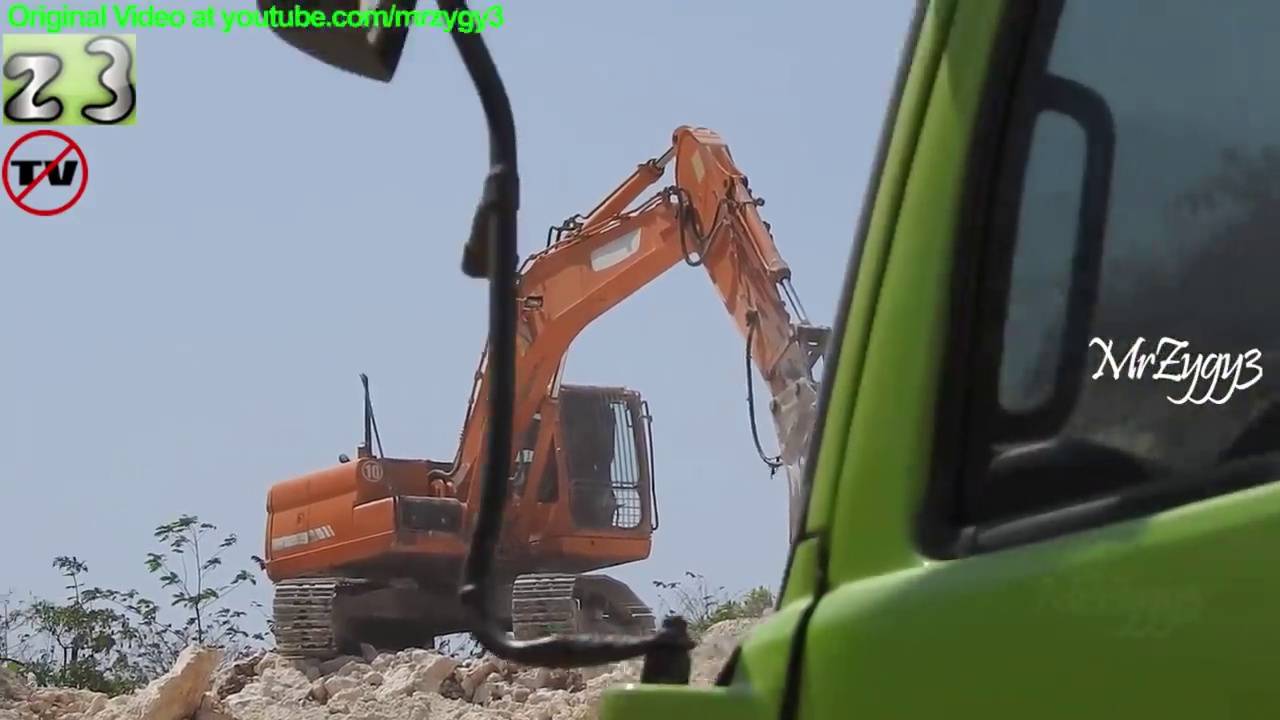excavator: (260, 117, 889, 674)
truck: (248, 1, 1280, 720)
